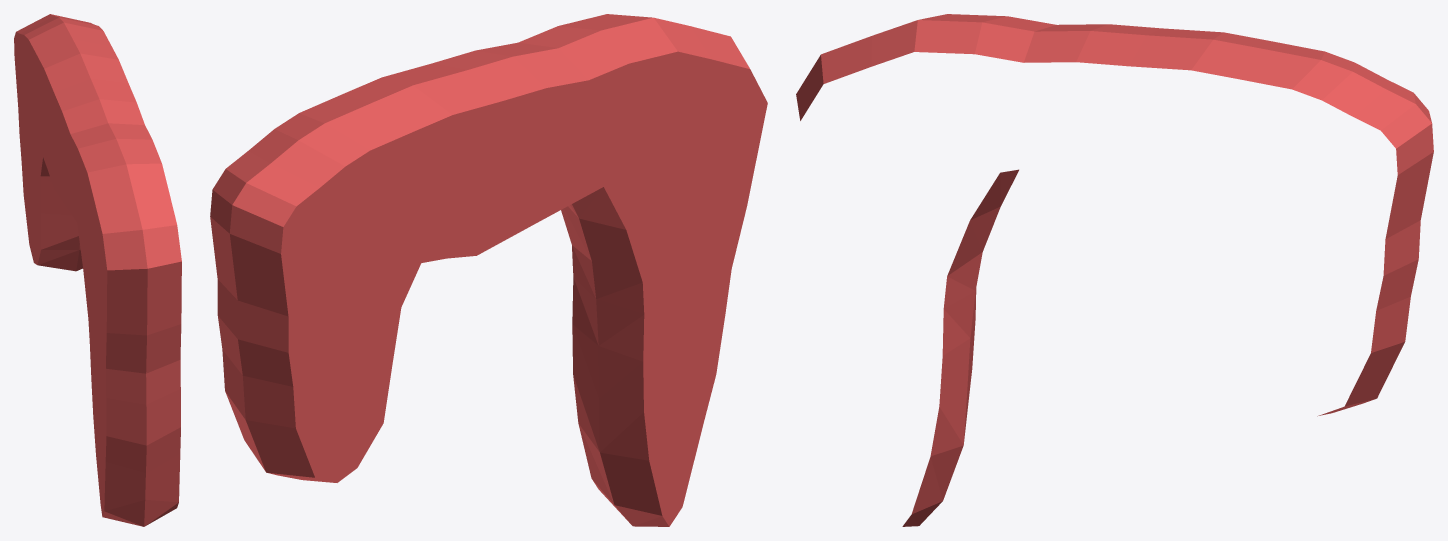
3 views of the same model, side by side, from view 1: azimuth 30°, elevation 25°; view 2: azimuth 150°, elevation 25°; view 3: azimuth 270°, elevation 25° (orthographic). The views are drawn at different scales.
Visible parts, largest first — view 1: Rectangle001.001; view 2: Rectangle001.001; view 3: Rectangle001.001.
Boxes of the visible parts, x1,y1,x2,y2 form: Rectangle001.001: [14, 14, 181, 526]; Rectangle001.001: [210, 14, 767, 526]; Rectangle001.001: [796, 14, 1433, 526].
Size of the model in its own units: 1.17 by 2.25 by 2.51.
